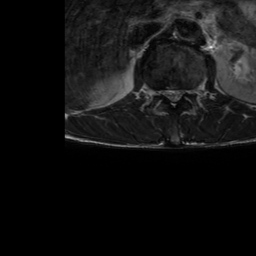CCS_stenosis: (169, 80, 176, 110)
LFS_stenosis: (184, 83, 192, 100)
LLS_normal: (176, 82, 184, 103)
RFS_stenosis: (154, 82, 161, 101)
RLS_stenosis: (161, 82, 169, 103)
